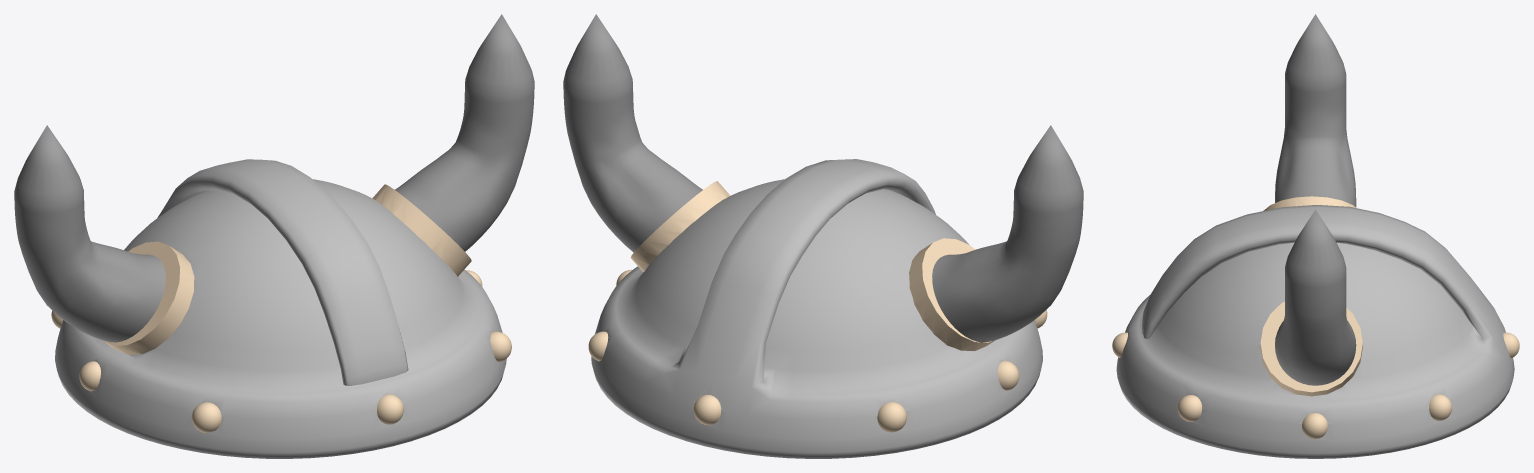
File: VikingHelmet.fbx
The picture shows the model from 3 angles, left to right: view 1: azimuth 30°, elevation 25°; view 2: azimuth 150°, elevation 25°; view 3: azimuth 270°, elevation 25°; orthographic projection. The views are drawn at different scales.
Visible parts, largest first — view 1: VikingHelmet; view 2: VikingHelmet; view 3: VikingHelmet.
Boxes of the visible parts, bbox=[...] form: VikingHelmet: bbox=[14, 14, 534, 458]; VikingHelmet: bbox=[563, 14, 1083, 458]; VikingHelmet: bbox=[1112, 14, 1519, 458].
Bounding box in the file's own units: 275 × 153 × 215.
